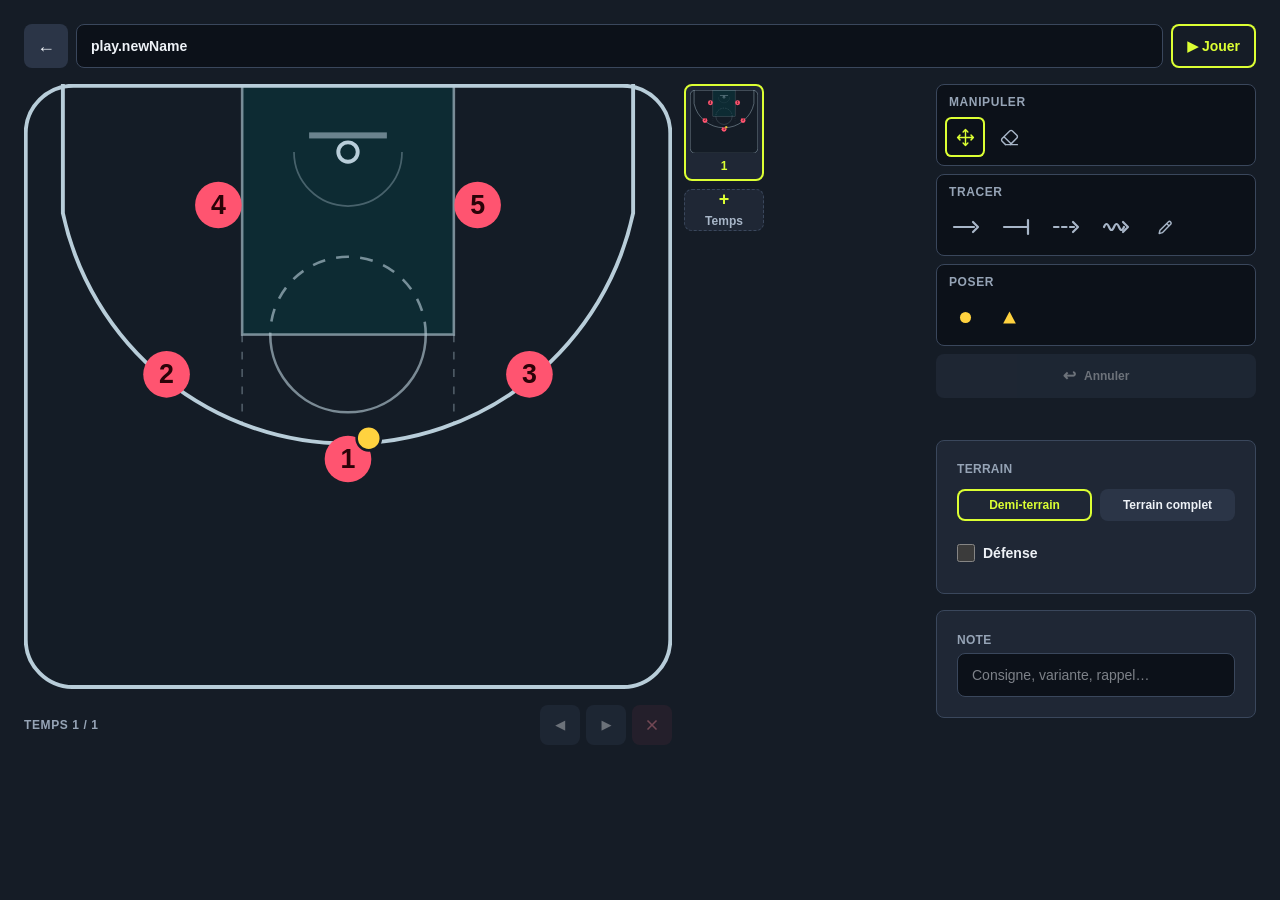
Test: SchemaEdit — the shape of a path › offers the choice only while a stroke tool is held
The width and height of the screenshot is (1280, 900).
Expected: the icon "1 2 3 4 5" is shown, [24, 84, 672, 689]
Expected: the button "Libre" is not shown
Click the button named "Écran": (1018, 227) [995, 207, 1041, 247]
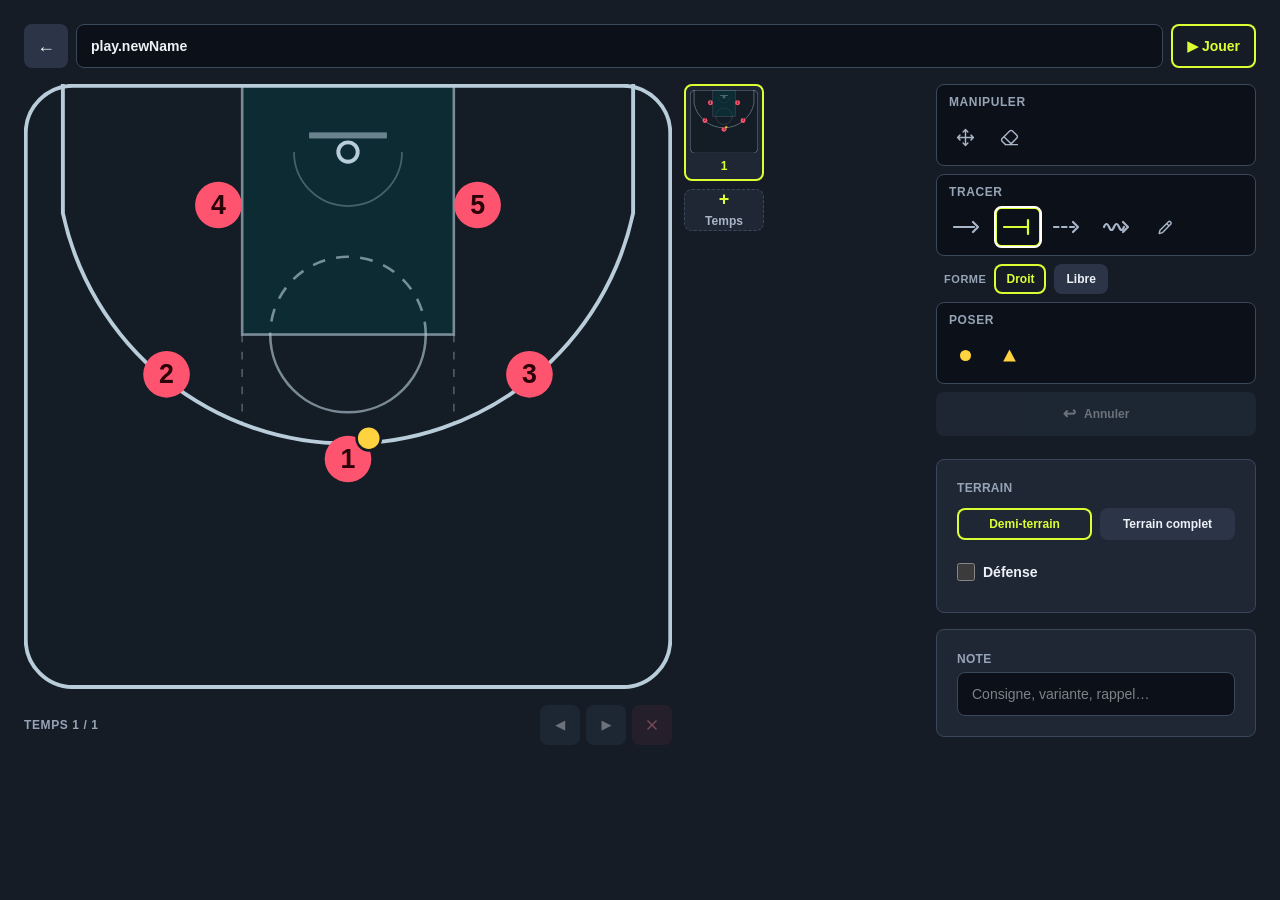
Note: The pen has no shape to choose: it is freehand by nature.
Click the button named "Pinceau": (1165, 227) [1145, 207, 1185, 247]
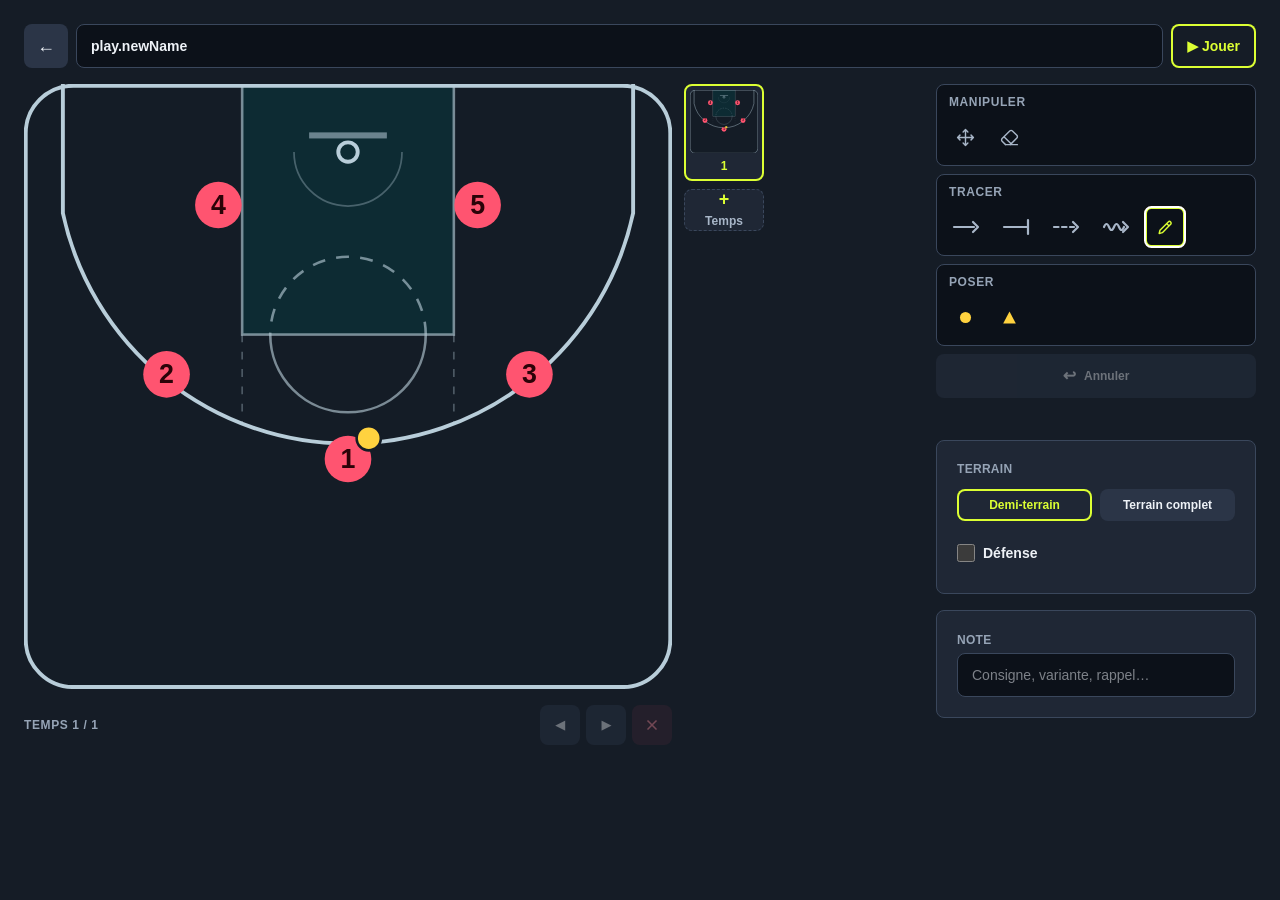
Expected: the button "Libre" is gone
